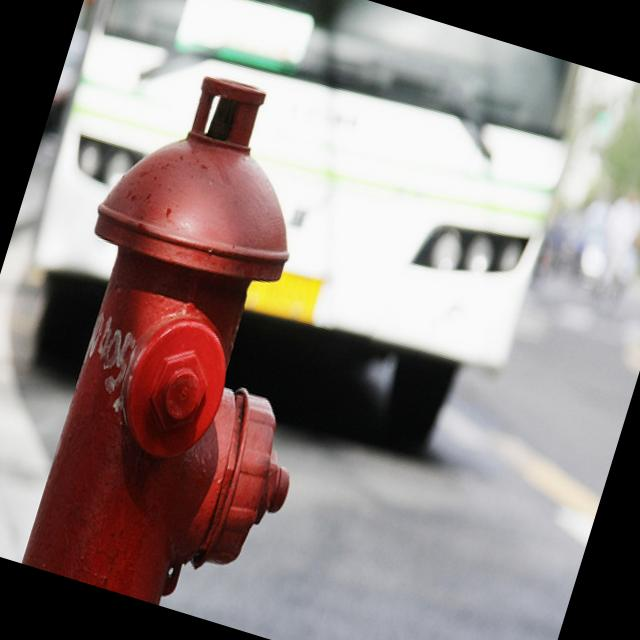Vehicle: (0, 0, 603, 508)
